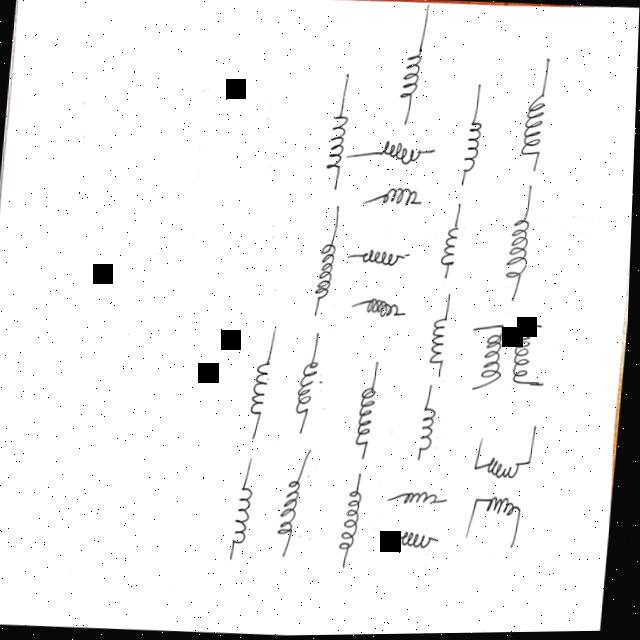inductor: (278, 460, 309, 548), (502, 213, 540, 283), (308, 233, 343, 308), (290, 353, 324, 426), (322, 107, 354, 180), (229, 483, 261, 556), (509, 313, 537, 396), (521, 91, 550, 170), (339, 484, 368, 561), (352, 385, 385, 448), (459, 113, 490, 178), (248, 355, 276, 425), (483, 322, 509, 395), (411, 399, 442, 459), (396, 45, 424, 111), (364, 292, 407, 334), (359, 239, 406, 275), (378, 179, 421, 218), (487, 449, 527, 487), (427, 316, 455, 367), (380, 135, 424, 167), (485, 492, 522, 525), (439, 222, 464, 269), (401, 524, 437, 555), (403, 488, 445, 512)
